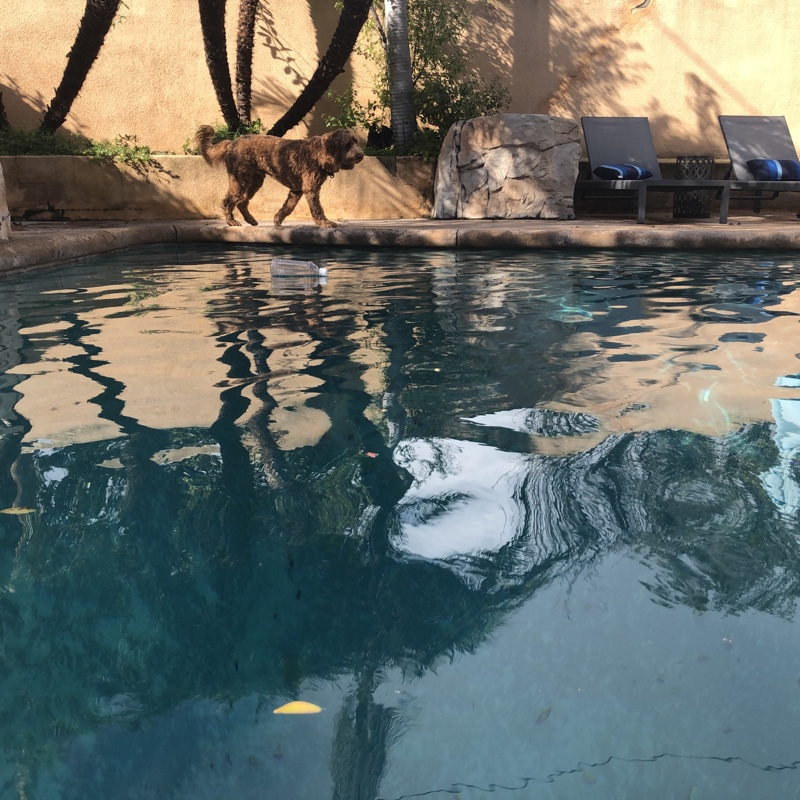Plastic Bottle: (267, 256, 330, 280)
